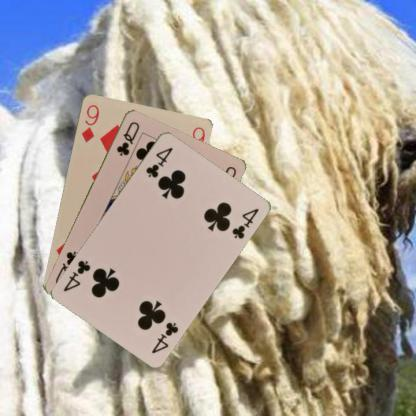4c: (148, 319, 180, 355), (142, 144, 174, 179)
9d: (78, 102, 101, 144)
Qc: (114, 119, 140, 157)
